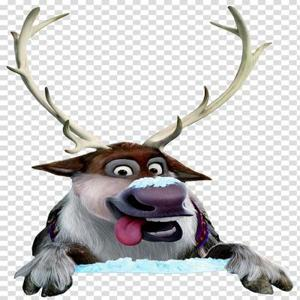sven: (12, 7, 286, 295)
